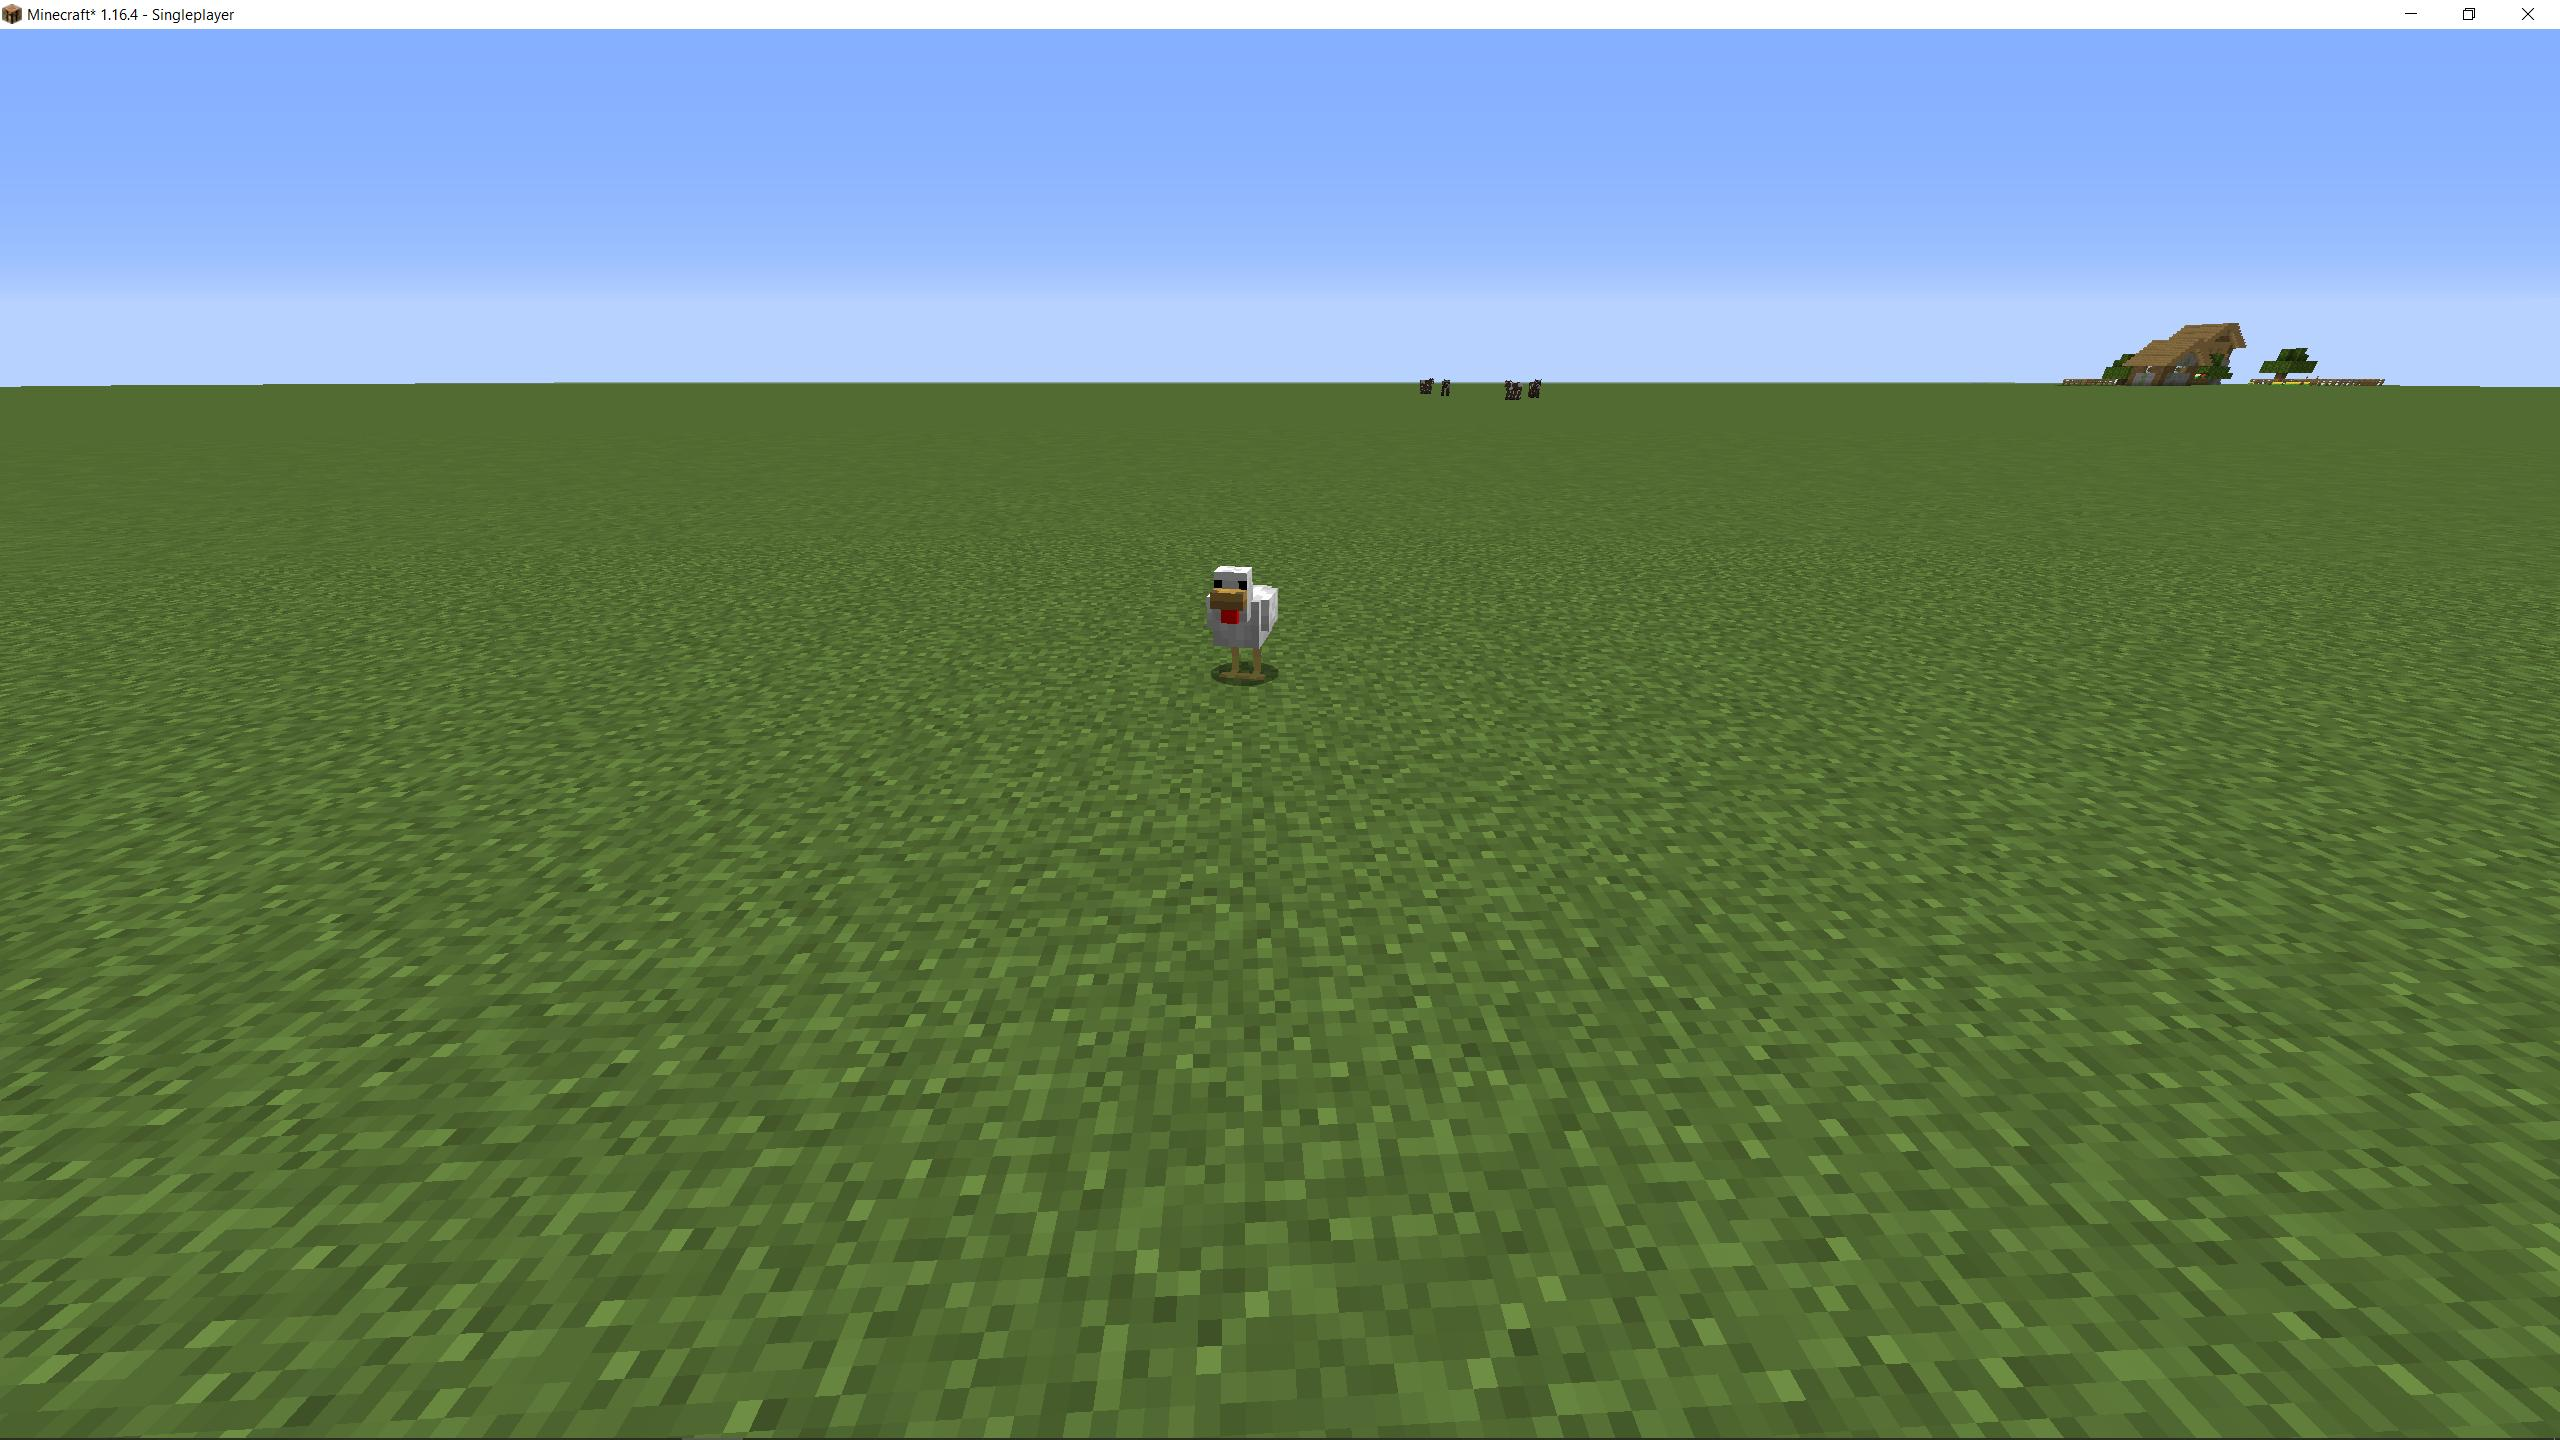chicken: (1201, 563, 1285, 684)
